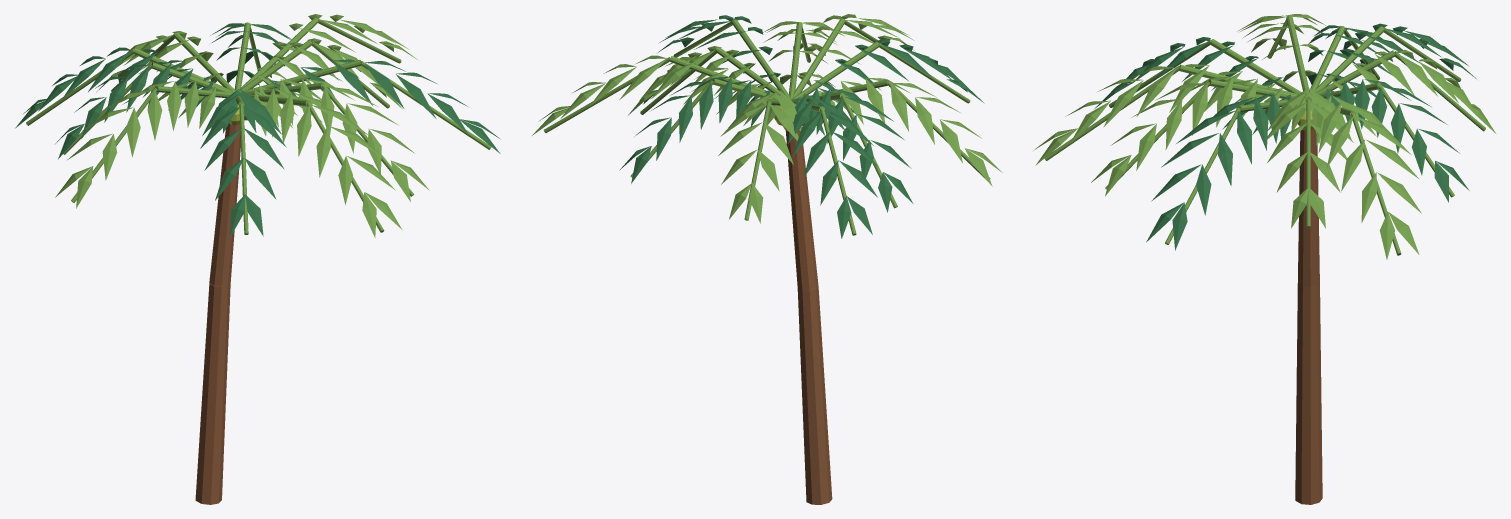
Rendered from 031_coconut_palm.glb.
The picture shows the model from 3 angles, left to right: view 1: azimuth 30°, elevation 25°; view 2: azimuth 150°, elevation 25°; view 3: azimuth 270°, elevation 25°; orthographic projection. The views are drawn at different scales.
Visible parts, largest first — view 1: Coconut palm; view 2: Coconut palm; view 3: Coconut palm.
Part boxes in pixels (<box>): Coconut palm: <box>15,14,500,504</box>; Coconut palm: <box>532,14,1002,504</box>; Coconut palm: <box>1033,14,1495,504</box>.
Size of the model in its own units: 6.56 by 6.59 by 6.12.
